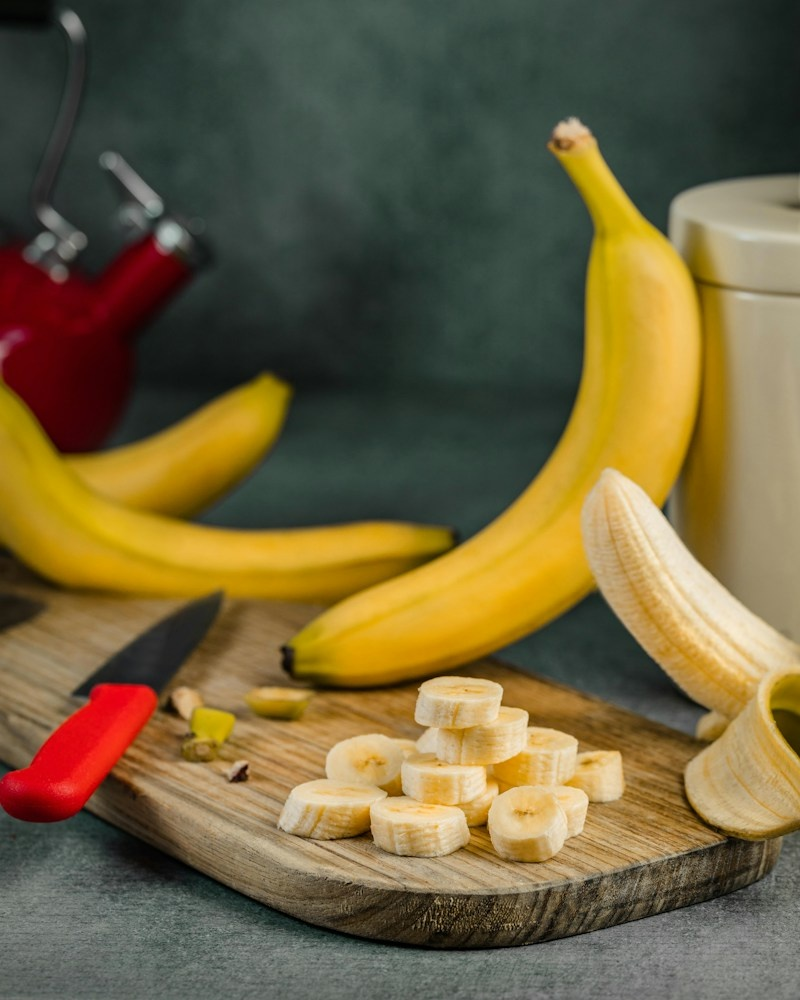banana peel: (275, 115, 703, 695), (1, 351, 453, 604), (664, 171, 800, 647), (580, 466, 800, 737), (61, 369, 297, 520), (487, 783, 587, 863), (279, 779, 392, 839), (368, 796, 470, 858)
